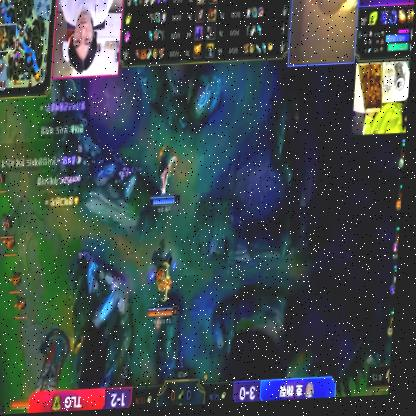streamer: (55, 0, 117, 74), (316, 0, 346, 19)
